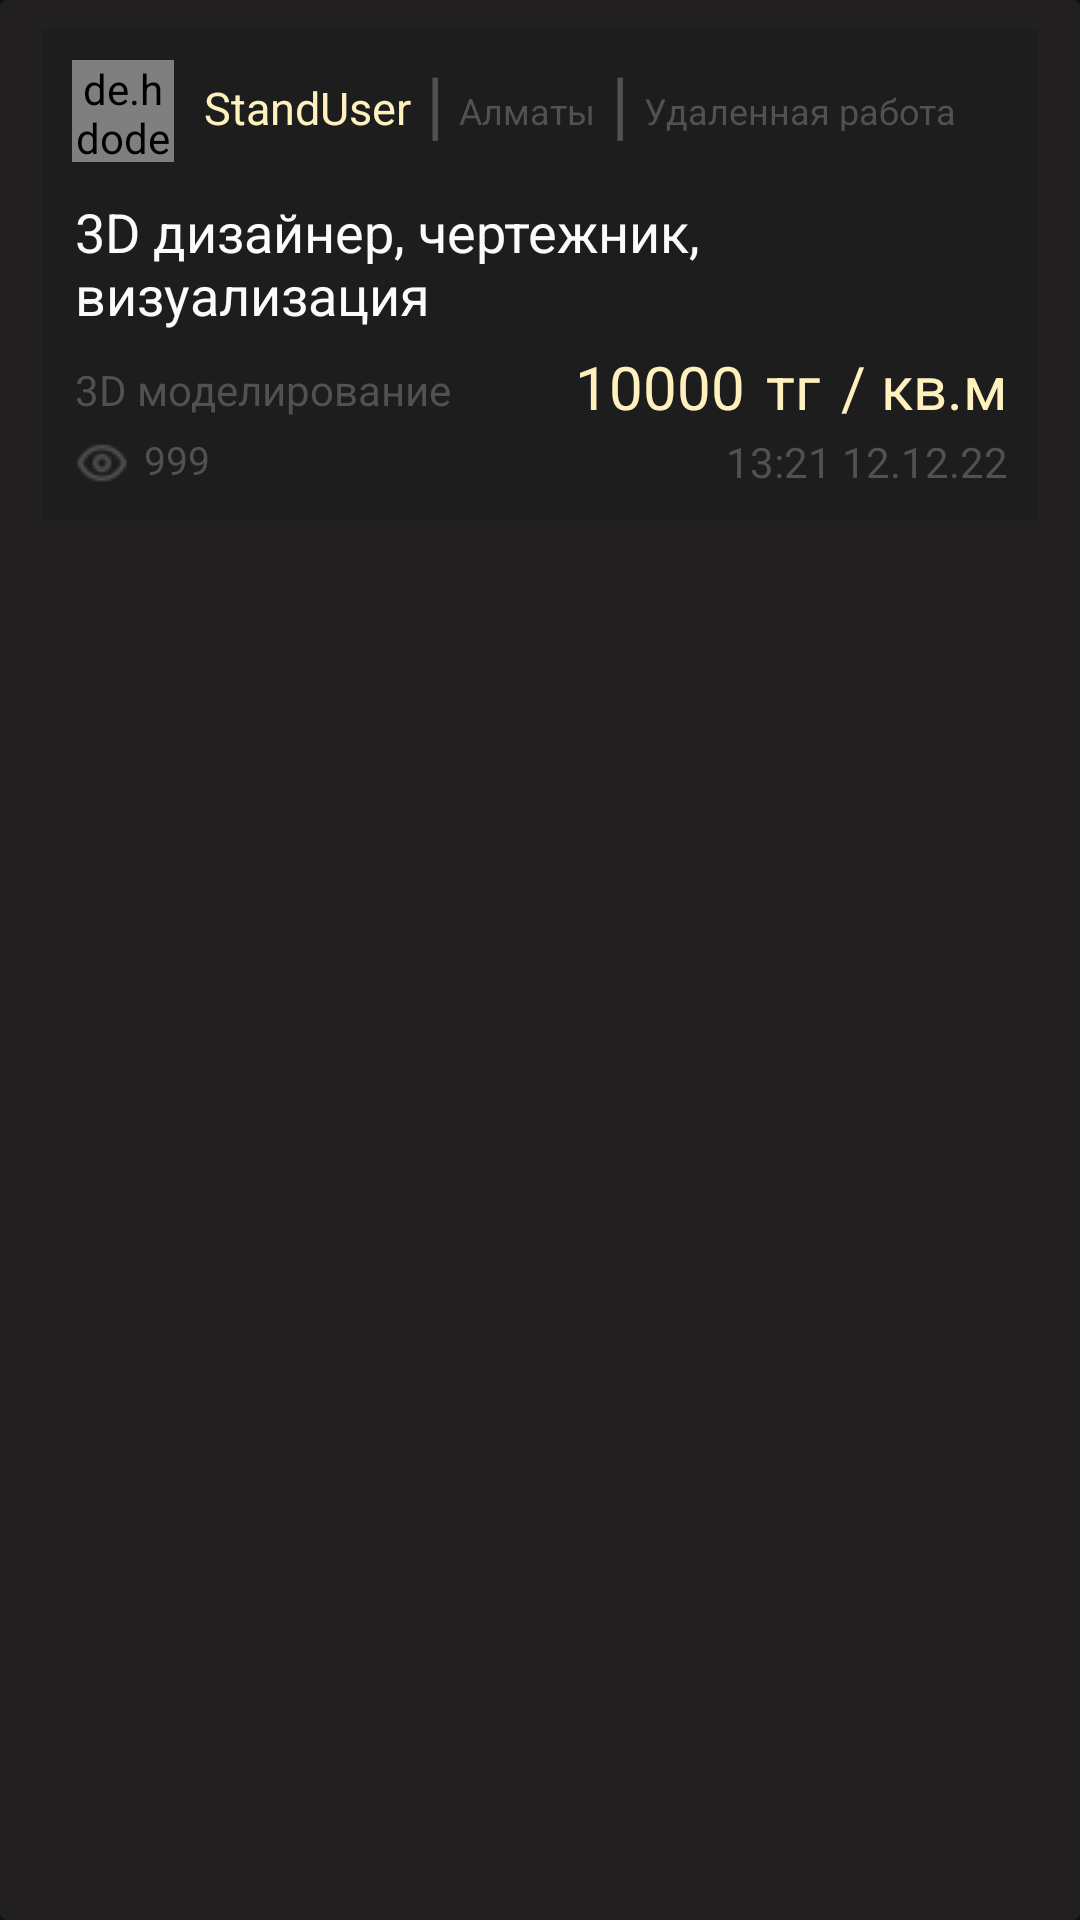

Point at icon controls on the screen. Image size 1080px x 1920px, points as (x=x, y=y).
open eye: (x=102, y=463)
